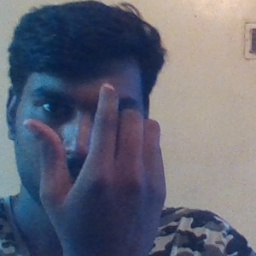U: (15, 79, 164, 234)
